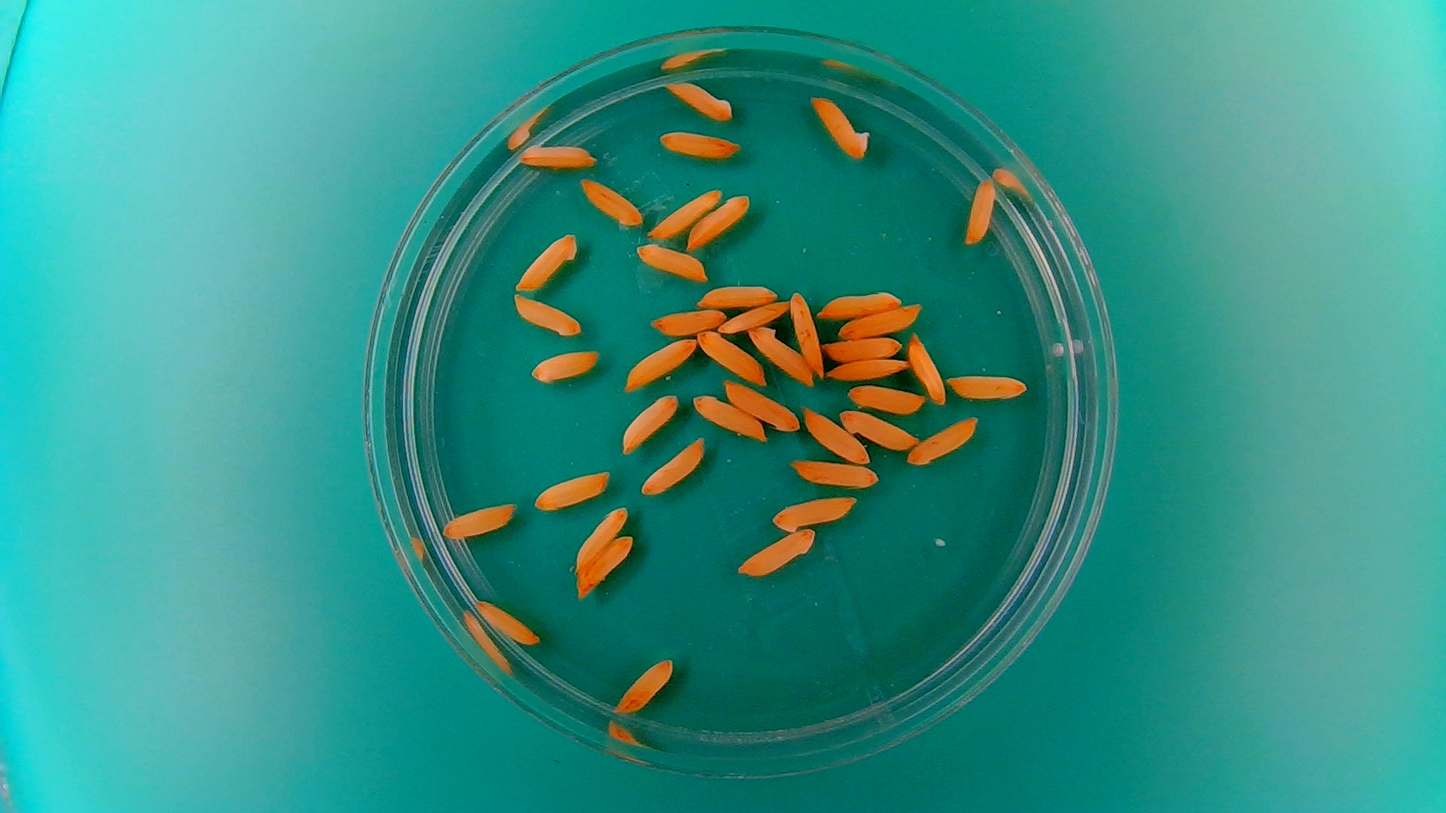no: (621, 334, 698, 391), (694, 327, 767, 386), (808, 93, 872, 160), (721, 378, 801, 431), (747, 322, 813, 386), (639, 434, 707, 496), (801, 404, 871, 464), (512, 230, 578, 293), (685, 190, 753, 251), (737, 528, 819, 578), (646, 185, 721, 238), (575, 532, 636, 597), (906, 415, 980, 467), (620, 391, 679, 455), (572, 504, 629, 569), (530, 467, 612, 512), (612, 656, 675, 714), (770, 492, 856, 534), (691, 393, 766, 440), (837, 408, 919, 450), (472, 598, 541, 647), (663, 76, 734, 123), (578, 177, 645, 226), (907, 329, 949, 407), (837, 303, 924, 340), (511, 291, 582, 336), (789, 288, 825, 376), (440, 501, 517, 541), (635, 241, 709, 282), (529, 346, 602, 385), (717, 300, 792, 336), (946, 371, 1029, 403), (816, 288, 901, 319), (656, 129, 740, 160), (963, 174, 999, 246), (847, 383, 924, 416), (517, 139, 597, 170), (649, 306, 727, 337), (696, 282, 780, 309), (827, 356, 910, 382), (823, 336, 902, 363)
